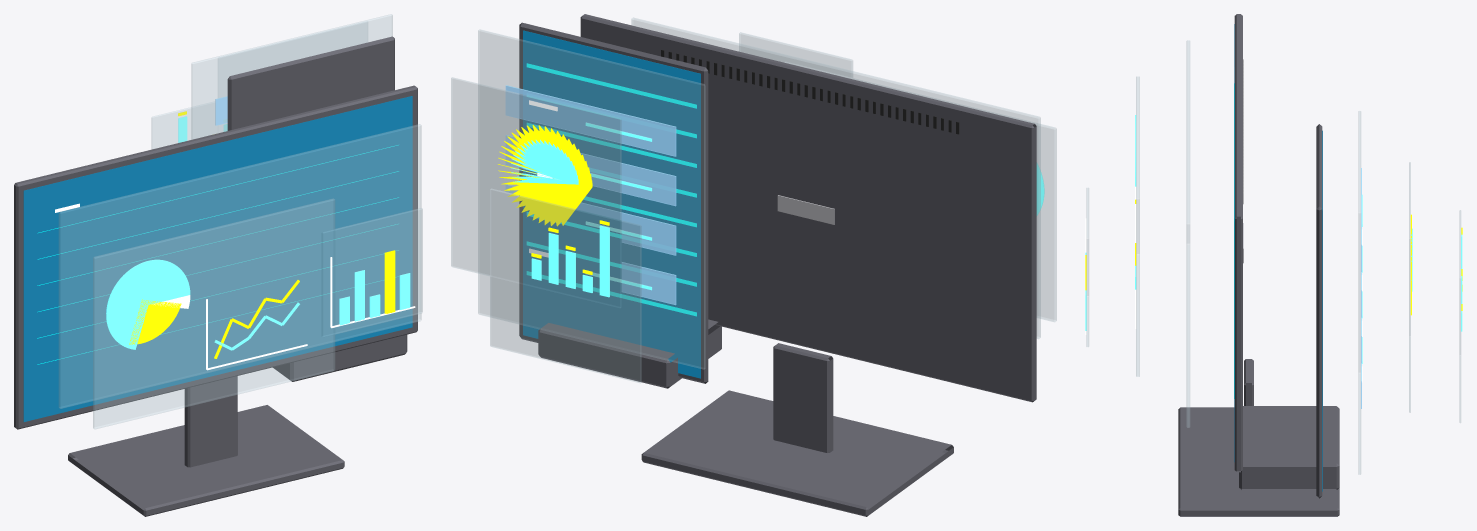
File: modelo_device_hologram_v14.glb
3 renders of one model, left to right at view 1: azimuth 30°, elevation 25°; view 2: azimuth 150°, elevation 25°; view 3: azimuth 270°, elevation 25°, orthographic. The views are drawn at different scales.
Visible parts, largest first — view 1: DeviceHologramV14; view 2: DeviceHologramV14; view 3: DeviceHologramV14.
Part boxes in pixels (x1=…): DeviceHologramV14: x1=14, y1=14, x2=422, y2=516; DeviceHologramV14: x1=451, y1=14, x2=1056, y2=516; DeviceHologramV14: x1=1085, y1=14, x2=1462, y2=516.
Size of the model in its own units: 2.6 by 2.05 by 1.87.
